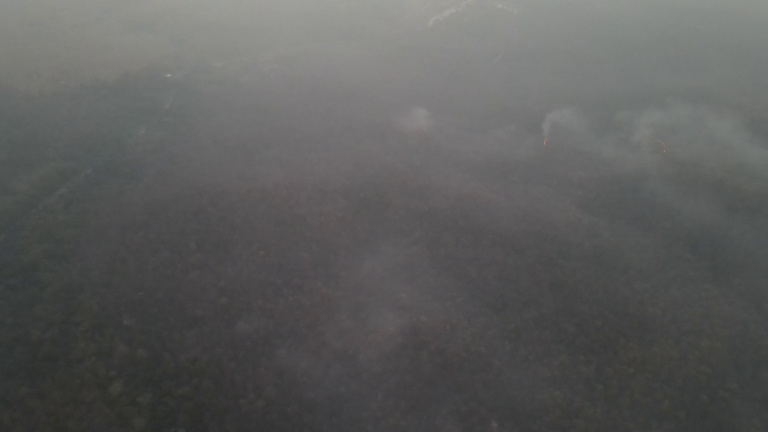fire: (654, 134, 670, 153), (538, 137, 553, 147)
smoke: (635, 99, 768, 219), (518, 103, 630, 177), (390, 103, 443, 143)
